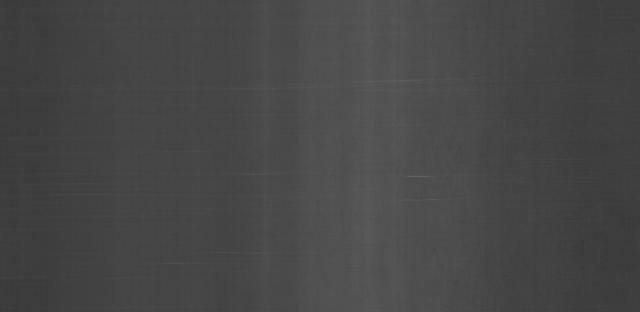waist_folding: (242, 36, 434, 211)
